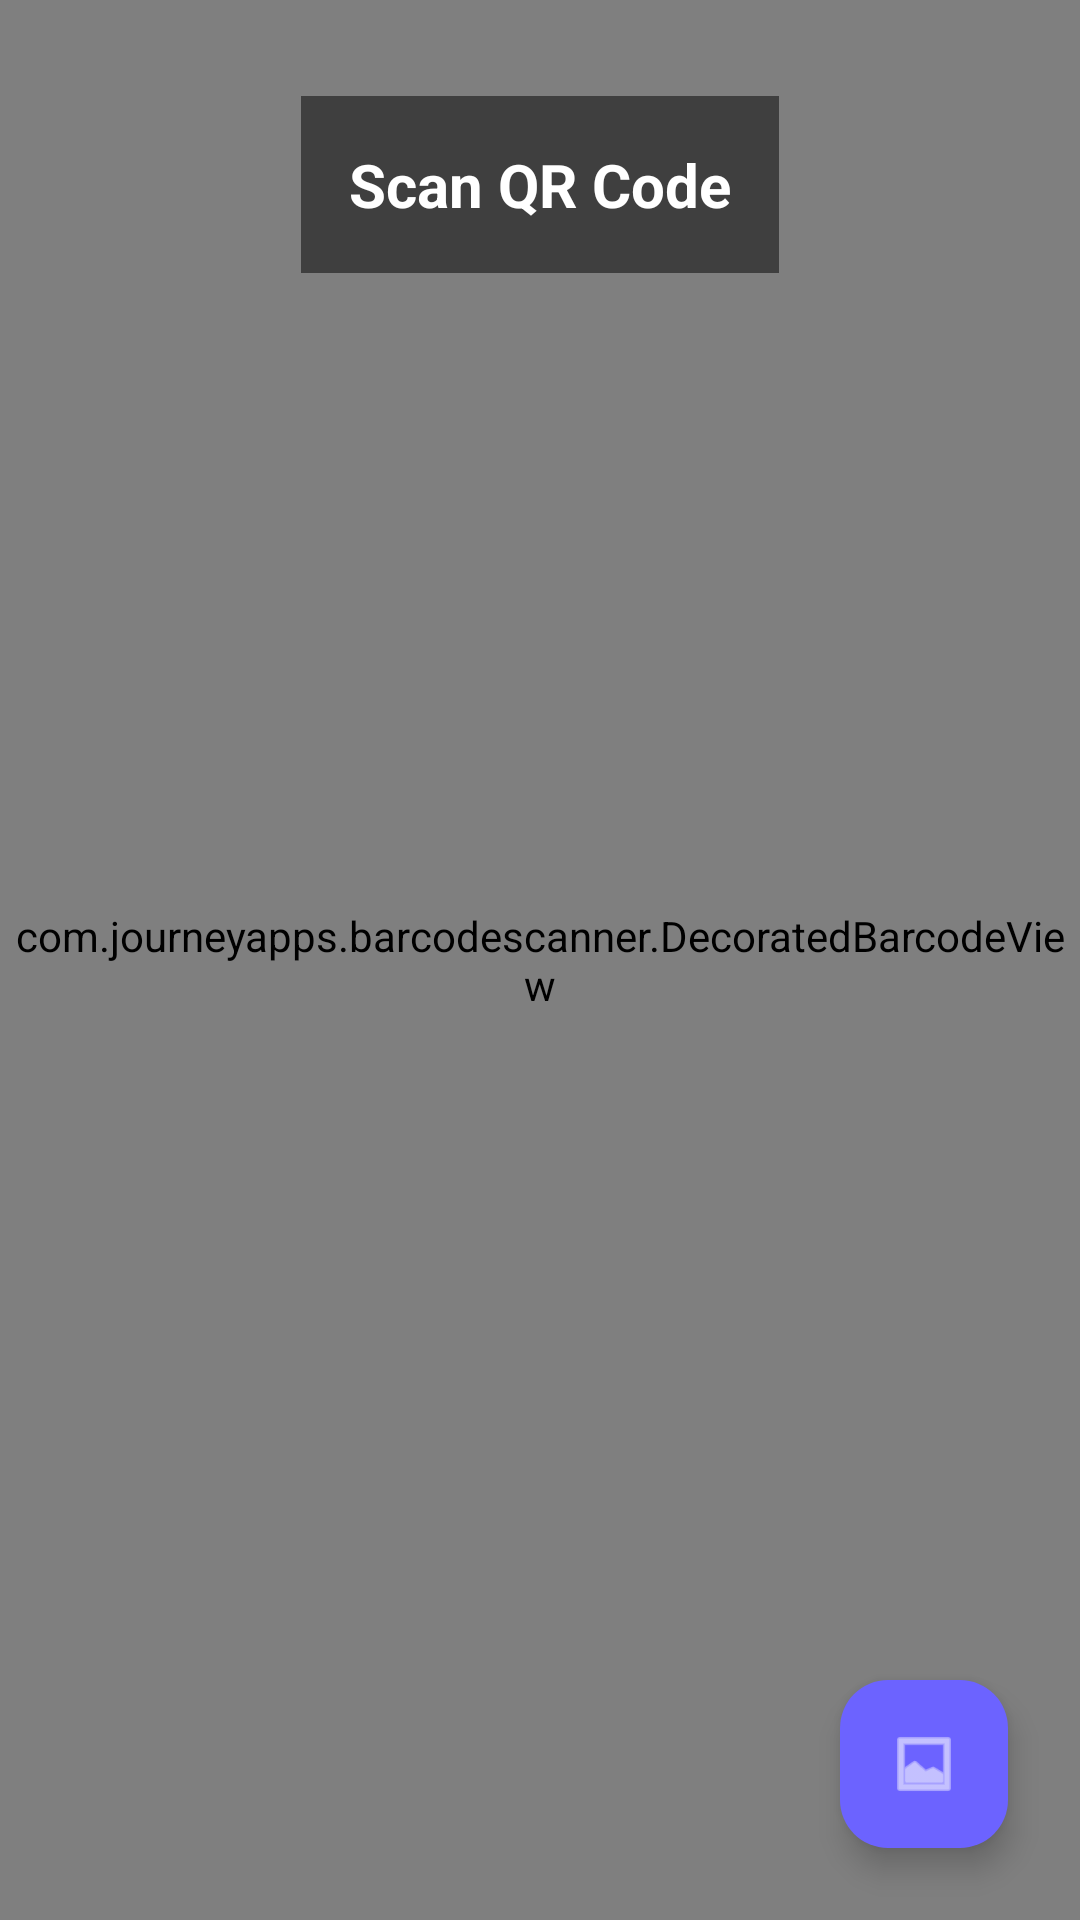

Icon click points for this 1080 × 1920 phone screenshot, format (x,y):
Select image from gallery: (924,1764)
